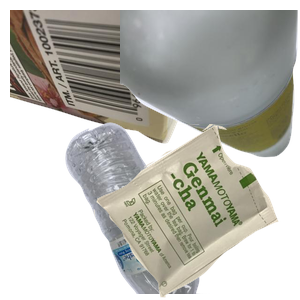cardboard: (10, 10, 213, 146)
glass: (120, 10, 300, 160)
plastic: (63, 120, 263, 300)
trash: (91, 124, 300, 300)
